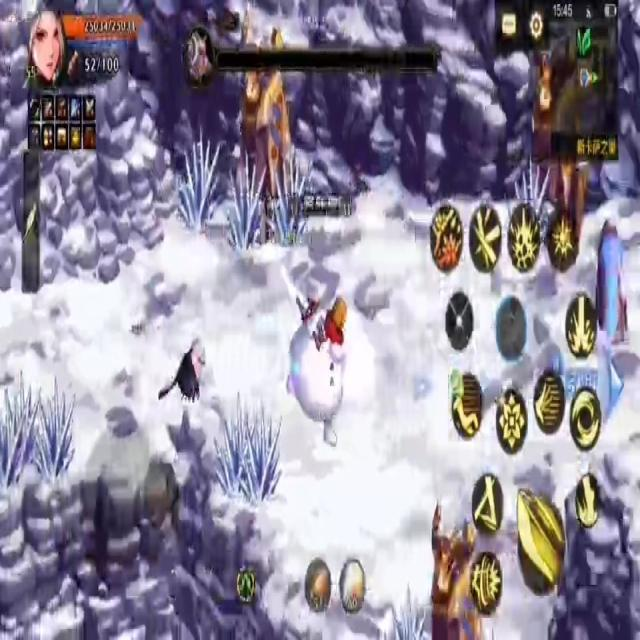player: (293, 284, 348, 457)
